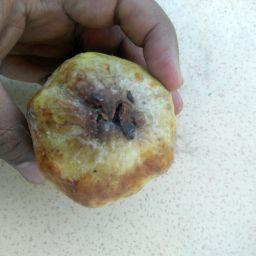guava: (19, 46, 181, 211)
